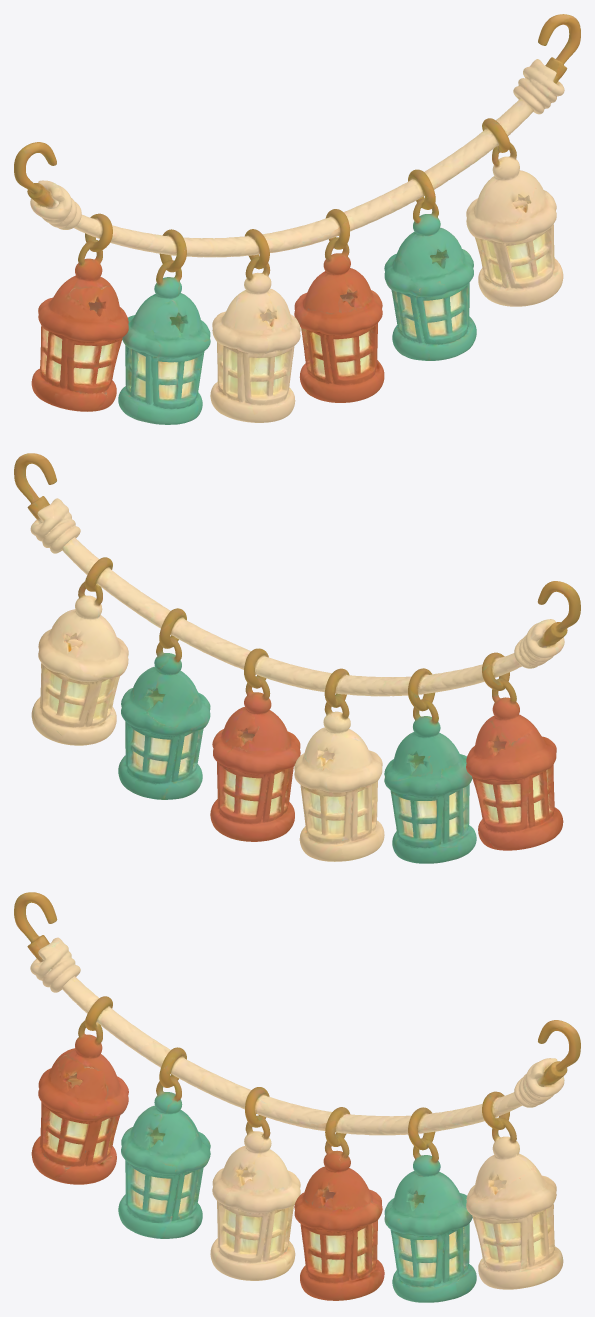
File: Meshy_AI_model.glb
The picture shows the model from 3 angles, top to bottom: view 1: azimuth 30°, elevation 25°; view 2: azimuth 150°, elevation 25°; view 3: azimuth 330°, elevation 25°; orthographic projection.
Parts seen in each view (by area): view 1: mesh_node; view 2: mesh_node; view 3: mesh_node.
Boxes of the visible parts, bbox=[...] form: mesh_node: bbox=[14, 14, 580, 424]; mesh_node: bbox=[14, 453, 580, 863]; mesh_node: bbox=[14, 892, 580, 1302].
Bounding box in the file's own units: 1.9 × 1.03 × 0.265.
1 material, 1 textured.
